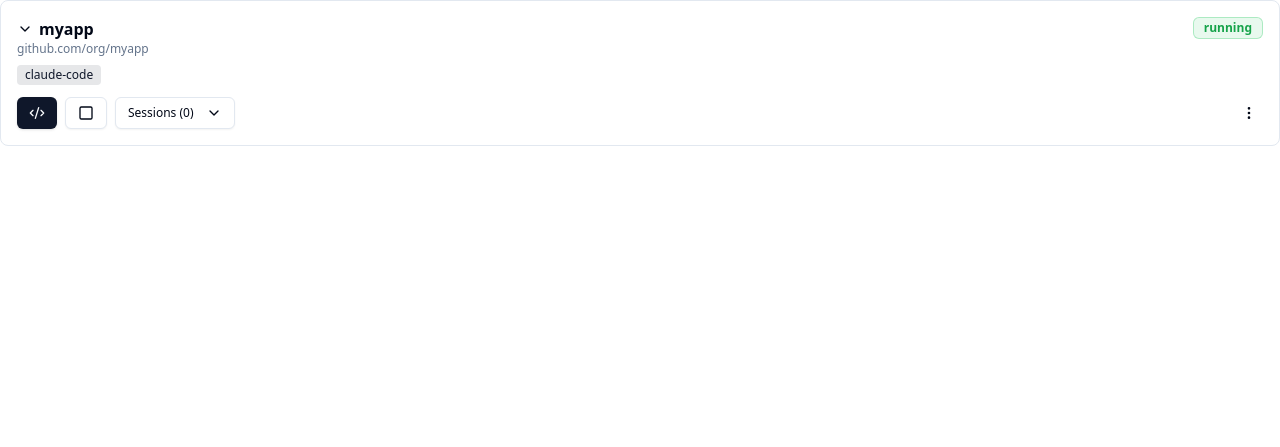
Test: WorkspaceCard › propose Clé SSH dans le menu Actions quand spec.ssh_key=true
The width and height of the screenshot is (1280, 447).
Click the button named "actions" at (1249, 113), box [1235,99,1263,127]
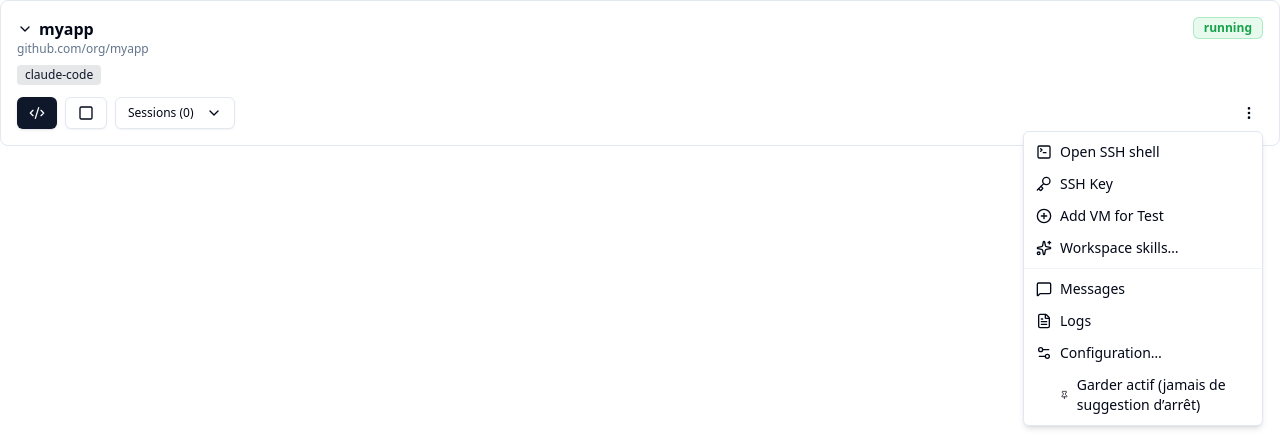
Check: the menu item "SSH Key" is shown, box [1036,174,1113,193]
Check: the menu item "Open SSH shell" is shown, box [1036,142,1160,161]
